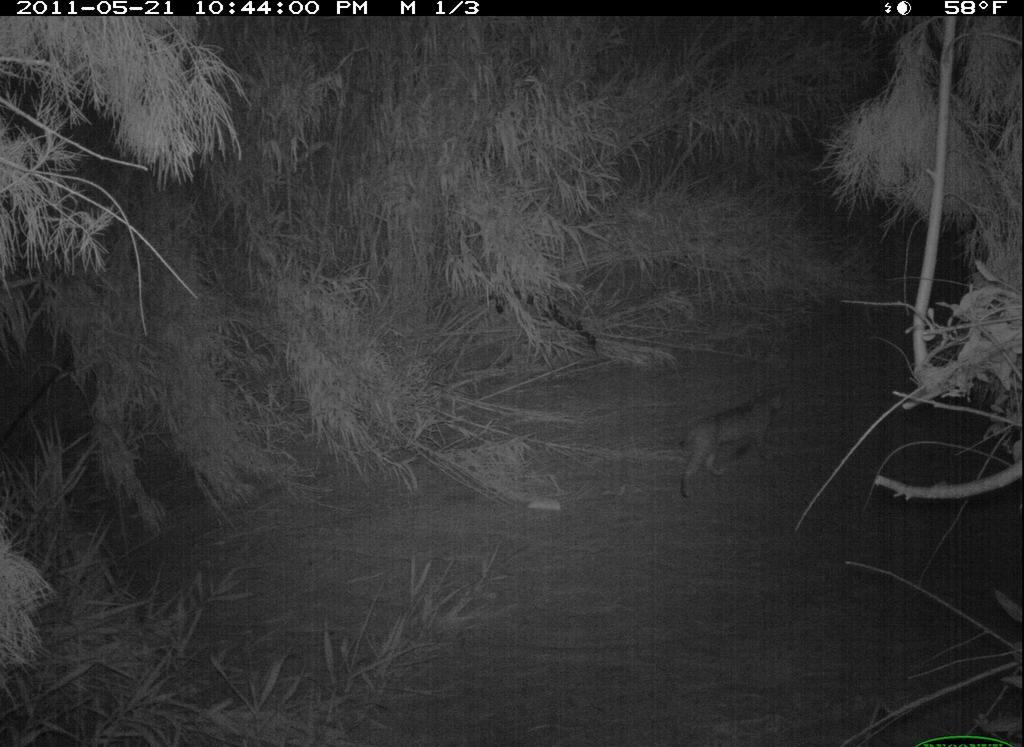bobcat: (667, 377, 798, 500)
